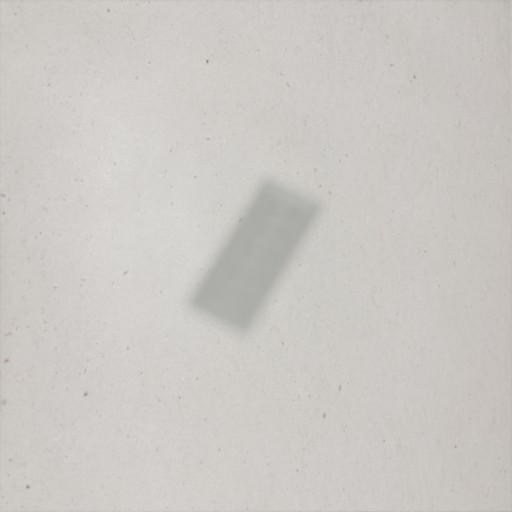lego: (183, 174, 326, 340)
